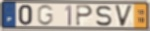0: (18, 4, 34, 27)
1: (65, 5, 73, 27)
G: (36, 4, 55, 27)
P: (75, 4, 94, 27)
S: (95, 5, 113, 27)
V: (114, 4, 135, 28)
